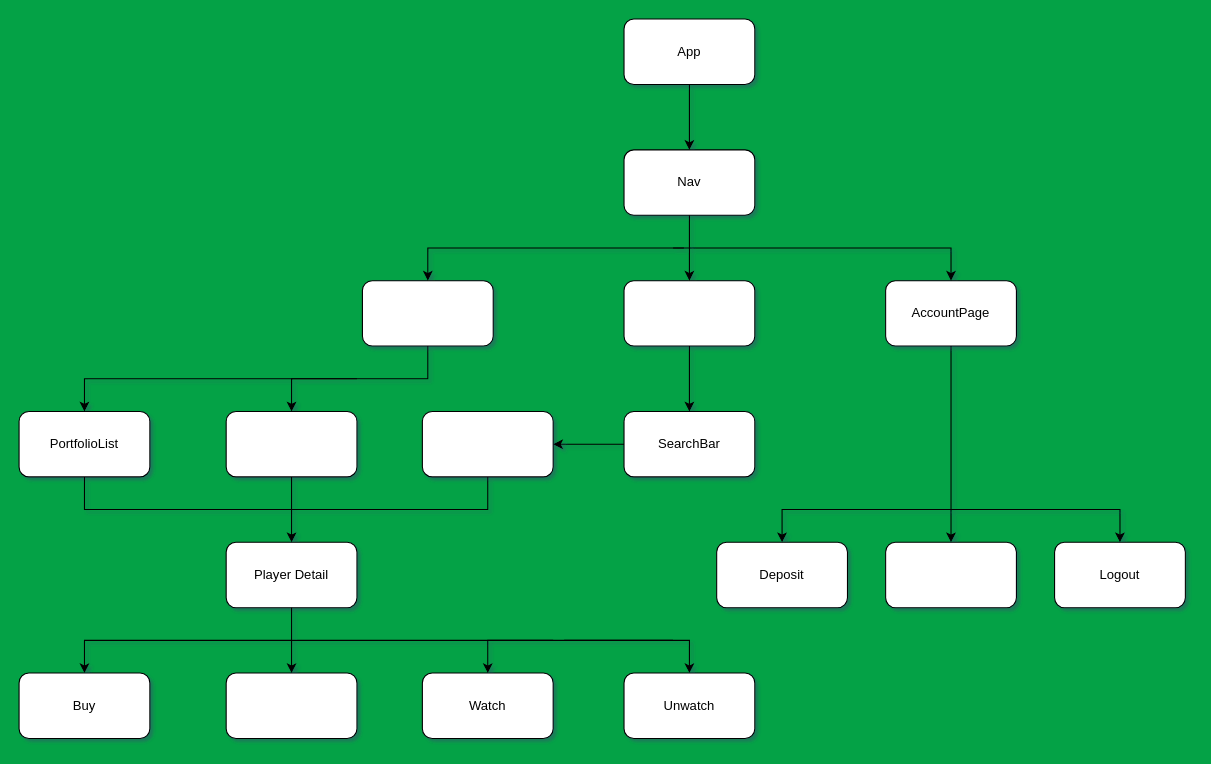
Some shapes in this 1211 by 764 pixel diagram are drawn without their labels. The centre of each missing label's shape, as x and y in pixels:
"HomePage" goes at (689,313).
"PlayerList" goes at (487,443).
"PortfolioPage" goes at (427,313).
"Sell" goes at (291,705).
"WatchlistList" goes at (291,443).
"Withdraw" goes at (950,574).
